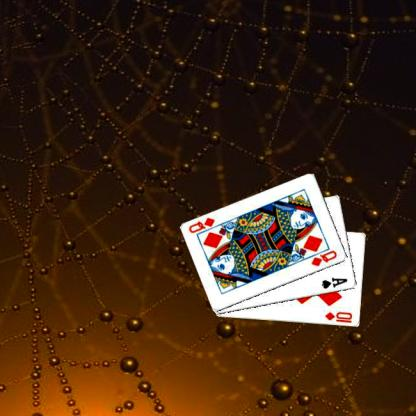10D: (324, 310, 356, 324)
AS: (321, 274, 351, 290)
QD: (310, 247, 340, 268), (188, 215, 218, 234)
